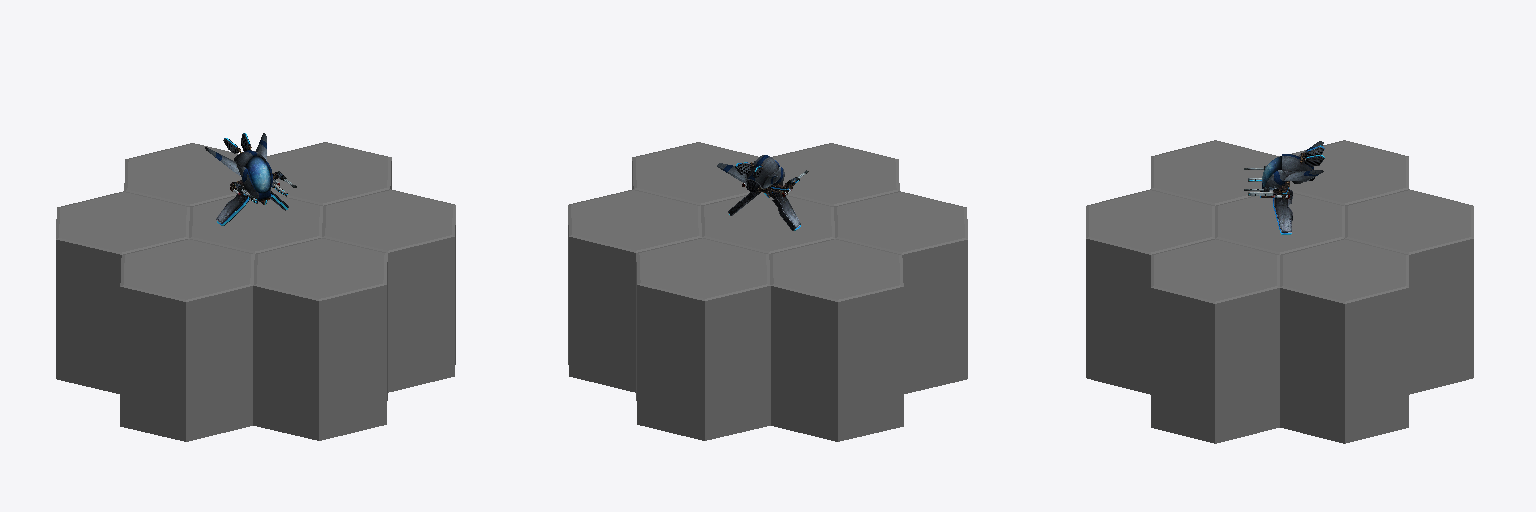
3 views of the same model, side by side, from view 1: azimuth 30°, elevation 25°; view 2: azimuth 150°, elevation 25°; view 3: azimuth 270°, elevation 25° (orthographic).
Parts seen in each view (by area): view 1: tile_reference tile_base_standard1, tile_reference tile_base_standard5, tile_reference tile_base_standard4, tile_reference tile_base_standard6, tile_reference tile_base_standard3, tile_base_standard tile_reference, tile_reference tile_base_standard2, pod_mesh p_pod body, glass pod_mesh p_pod; view 2: tile_reference tile_base_standard2, tile_reference tile_base_standard6, tile_reference tile_base_standard3, tile_reference tile_base_standard5, tile_reference tile_base_standard1, tile_base_standard tile_reference, tile_reference tile_base_standard4, pod_mesh p_pod body; view 3: tile_reference tile_base_standard3, tile_reference tile_base_standard4, tile_reference tile_base_standard1, tile_reference tile_base_standard2, tile_reference tile_base_standard5, tile_base_standard tile_reference, tile_reference tile_base_standard6, pod_mesh p_pod body, pod_mesh p_pod left_balance.
Part boxes in pixels (x1,y1,x2,y2): tile_reference tile_base_standard1: (253, 238, 387, 440); tile_reference tile_base_standard5: (120, 239, 254, 441); tile_reference tile_base_standard4: (322, 189, 455, 392); tile_reference tile_base_standard6: (56, 191, 189, 393); tile_reference tile_base_standard3: (267, 142, 391, 205); tile_base_standard tile_reference: (189, 195, 322, 253); tile_reference tile_base_standard2: (124, 143, 243, 205); pod_mesh p_pod body: (205, 133, 272, 200); glass pod_mesh p_pod: (246, 156, 270, 192); tile_reference tile_base_standard2: (636, 238, 770, 440); tile_reference tile_base_standard6: (769, 239, 903, 441); tile_reference tile_base_standard3: (568, 189, 701, 392); tile_reference tile_base_standard5: (834, 191, 967, 393); tile_reference tile_base_standard1: (772, 143, 899, 205); tile_base_standard tile_reference: (701, 192, 834, 253); tile_reference tile_base_standard4: (632, 142, 758, 205); pod_mesh p_pod body: (717, 155, 784, 190); tile_reference tile_base_standard3: (1280, 238, 1408, 443); tile_reference tile_base_standard4: (1151, 238, 1279, 443); tile_reference tile_base_standard1: (1086, 189, 1214, 394); tile_reference tile_base_standard2: (1345, 189, 1473, 394); tile_reference tile_base_standard5: (1151, 140, 1279, 205); tile_base_standard tile_reference: (1215, 193, 1344, 254); tile_reference tile_base_standard6: (1289, 140, 1408, 205); pod_mesh p_pod body: (1262, 141, 1323, 196); pod_mesh p_pod left_balance: (1273, 198, 1292, 234).
Bounding box in the file's own units: 3000 × 1809 × 3000.
2 materials, 1 textured.